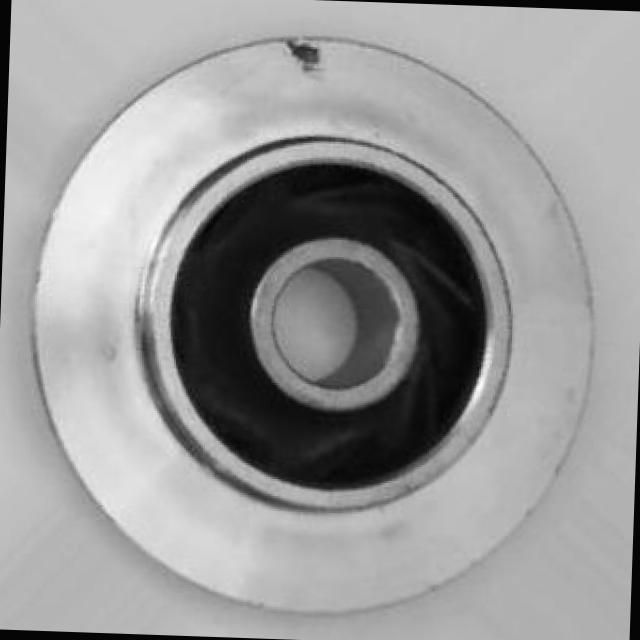Defect: (281, 34, 341, 84)
